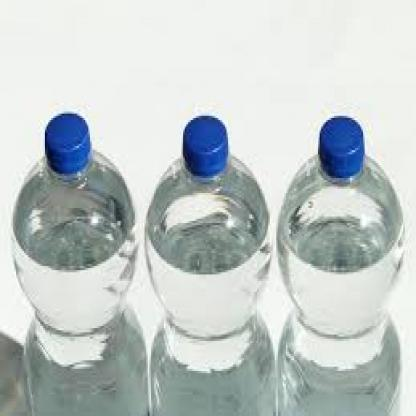Plastic: (0, 105, 411, 416)
